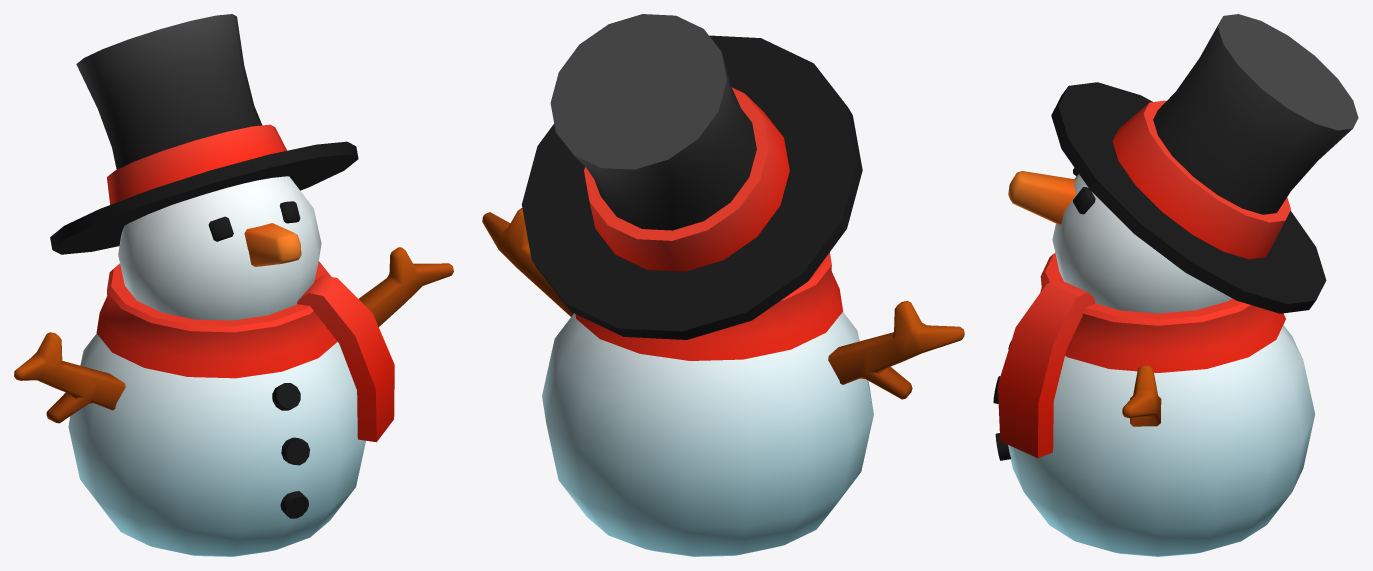
The model's file is Prop_Snowman_01.fbx.
3 renders of one model, left to right at view 1: azimuth 30°, elevation 25°; view 2: azimuth 150°, elevation 25°; view 3: azimuth 270°, elevation 25°, orthographic. The views are drawn at different scales.
Visible parts, largest first — view 1: Prop_Snowman_01; view 2: Prop_Snowman_01; view 3: Prop_Snowman_01.
Boxes of the visible parts, box(x1,y1,x2,y2) form: Prop_Snowman_01: box(14, 14, 453, 556); Prop_Snowman_01: box(482, 14, 964, 556); Prop_Snowman_01: box(993, 14, 1358, 556).
Size of the model in its own units: 165 by 171 by 116.
